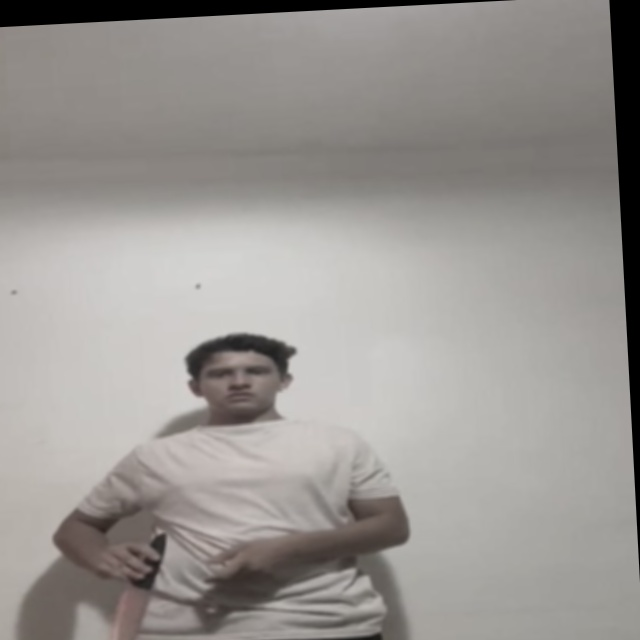Sharp-Object: (102, 585, 153, 640)
